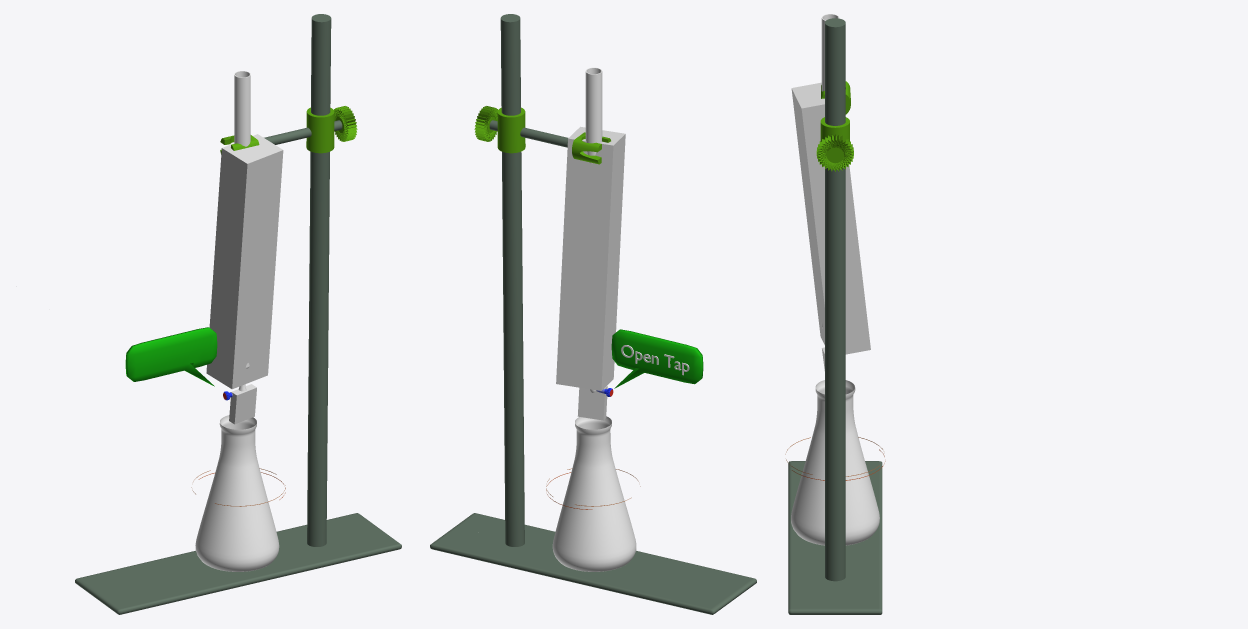
The model's file is titeration2.glb.
3 renders of one model, left to right at view 1: azimuth 30°, elevation 25°; view 2: azimuth 150°, elevation 25°; view 3: azimuth 270°, elevation 25°, orthographic. The views are drawn at different scales.
Parts seen in each view (by area): view 1: Plane, Cutter.004, 4000 mL ER.001, tapAlert.001, Circle.013, Cylinder.001, Cutter, Cylinder.003; view 2: Plane, Cutter.004, 4000 mL ER.001, tapAlert.001, Circle.013, Cylinder.001, Cutter, Cylinder.005, Cylinder.003; view 3: Plane, Cutter.004, 4000 mL ER.001, Cylinder.003.
Part boxes in pixels (left/top/right/bottom): Plane: left=75, top=14, right=401, bottom=614; Cutter.004: left=206, top=134, right=283, bottom=389; 4000 mL ER.001: left=195, top=415, right=279, bottom=571; tapAlert.001: left=125, top=327, right=217, bottom=386; Circle.013: left=234, top=71, right=250, bottom=391; Cylinder.001: left=306, top=107, right=334, bottom=153; Cutter: left=229, top=384, right=256, bottom=424; Cylinder.003: left=334, top=106, right=357, bottom=141; Plane: left=430, top=14, right=756, bottom=614; Cutter.004: left=556, top=126, right=625, bottom=390; 4000 mL ER.001: left=552, top=416, right=636, bottom=571; tapAlert.001: left=611, top=329, right=703, bottom=388; Circle.013: left=585, top=67, right=602, bottom=392; Cylinder.001: left=497, top=107, right=525, bottom=153; Cutter: left=577, top=386, right=607, bottom=420; Cylinder.005: left=572, top=132, right=610, bottom=164; Cylinder.003: left=474, top=106, right=497, bottom=141; Plane: left=788, top=18, right=882, bottom=614; Cutter.004: left=791, top=82, right=870, bottom=354; 4000 mL ER.001: left=791, top=380, right=879, bottom=545; Cylinder.003: left=816, top=134, right=853, bottom=171.
Size of what is drawn, in the model's own units: 2.01 by 3.57 by 2.58.
